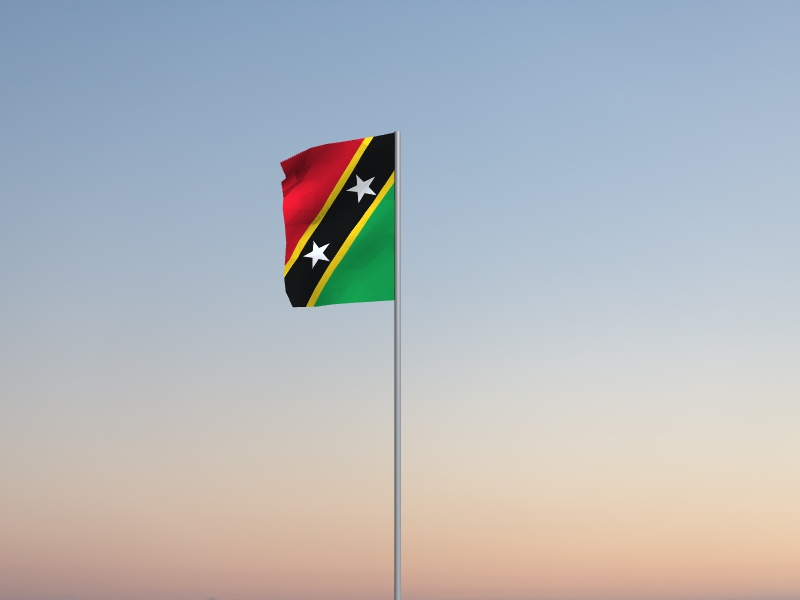kn: (279, 134, 394, 309)
